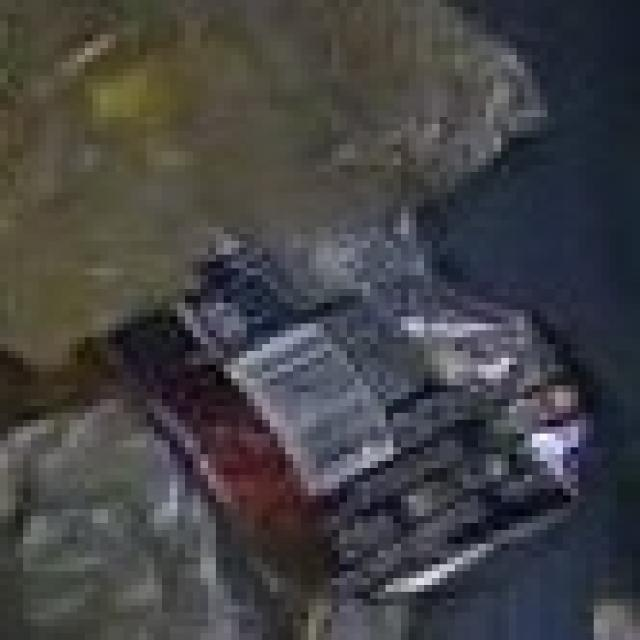litter: (57, 83, 637, 626)
